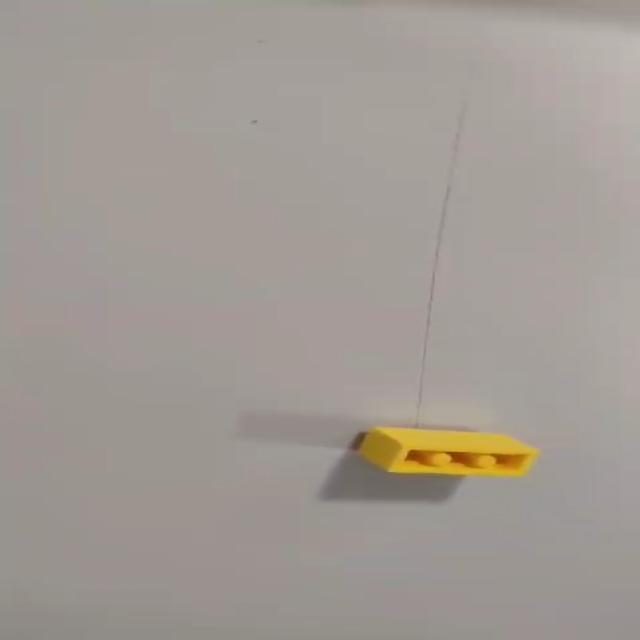C3x1x1: (355, 420, 544, 480)
